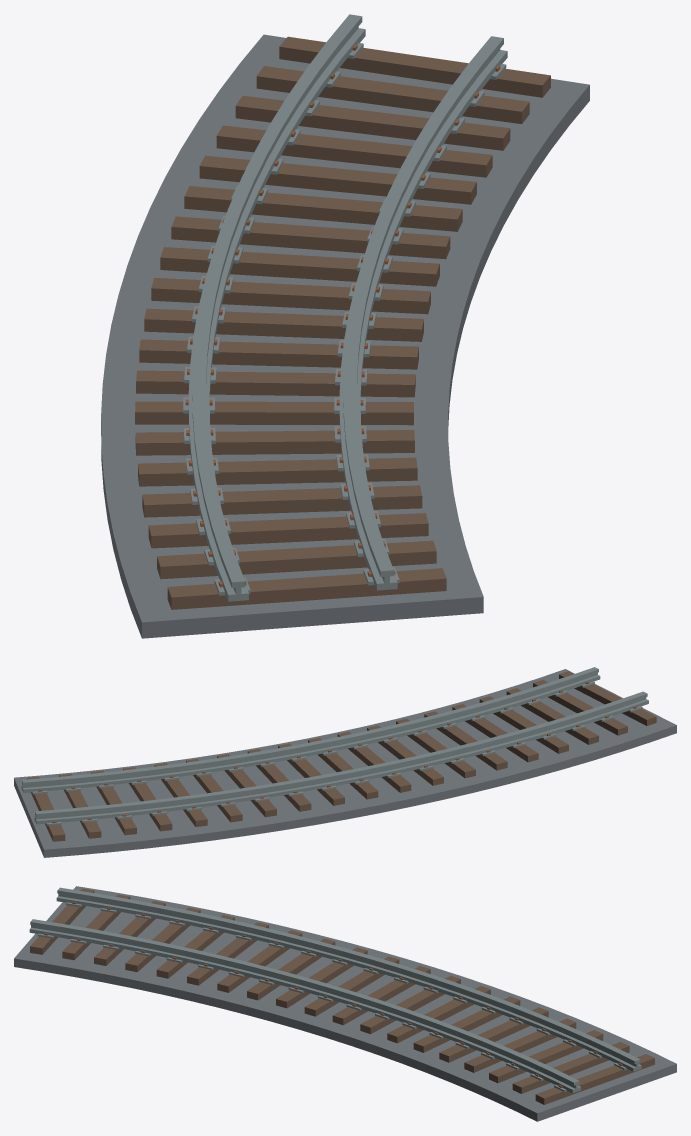
The model's file is DeadRail_TrackCurve_Right_30deg.fbx.
3 views of the same model, one above another, from view 1: azimuth 30°, elevation 25°; view 2: azimuth 150°, elevation 25°; view 3: azimuth 270°, elevation 25° (orthographic). The views are drawn at different scales.
Visible parts, largest first — view 1: TrackCurve_Right_30deg_Mesh.002; view 2: TrackCurve_Right_30deg_Mesh.002; view 3: TrackCurve_Right_30deg_Mesh.002.
Part boxes in pixels (x1,y1,x2,y2): TrackCurve_Right_30deg_Mesh.002: [101, 14, 589, 638]; TrackCurve_Right_30deg_Mesh.002: [14, 667, 676, 857]; TrackCurve_Right_30deg_Mesh.002: [14, 886, 676, 1121].
Size of the model in its own units: 9.74 by 0.52 by 12.
